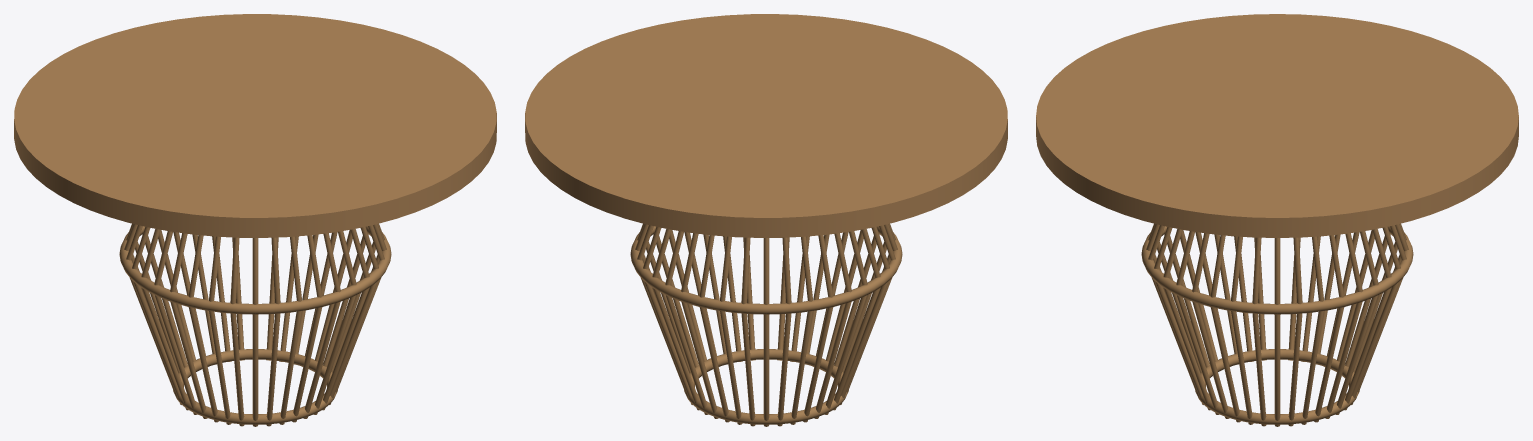
Rendered from wh-lantern-base-wood-dining-table.glb.
3 renders of one model, left to right at view 1: azimuth 30°, elevation 25°; view 2: azimuth 150°, elevation 25°; view 3: azimuth 270°, elevation 25°, orthographic.
Visible parts, largest first — view 1: Round or oval tabletop.009, Lantern wicker rib.036; view 2: Round or oval tabletop.009, Lantern wicker rib.036; view 3: Round or oval tabletop.009, Lantern wicker rib.036.
Part boxes in pixels (x1,y1,x2,y2): Round or oval tabletop.009: (14, 14, 496, 237); Lantern wicker rib.036: (119, 223, 391, 426); Round or oval tabletop.009: (525, 14, 1007, 237); Lantern wicker rib.036: (630, 223, 902, 426); Round or oval tabletop.009: (1036, 14, 1518, 237); Lantern wicker rib.036: (1141, 223, 1413, 426).
Size of the model in its own units: 1.2 by 0.76 by 1.2.
